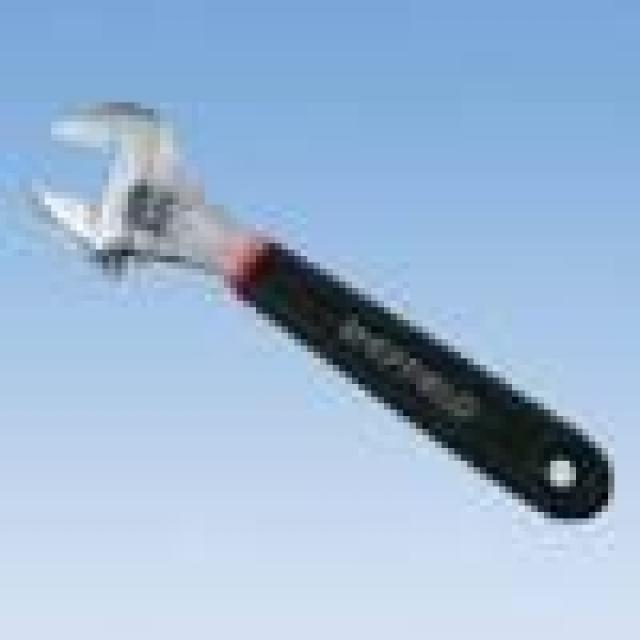wrench: (21, 93, 618, 528)
